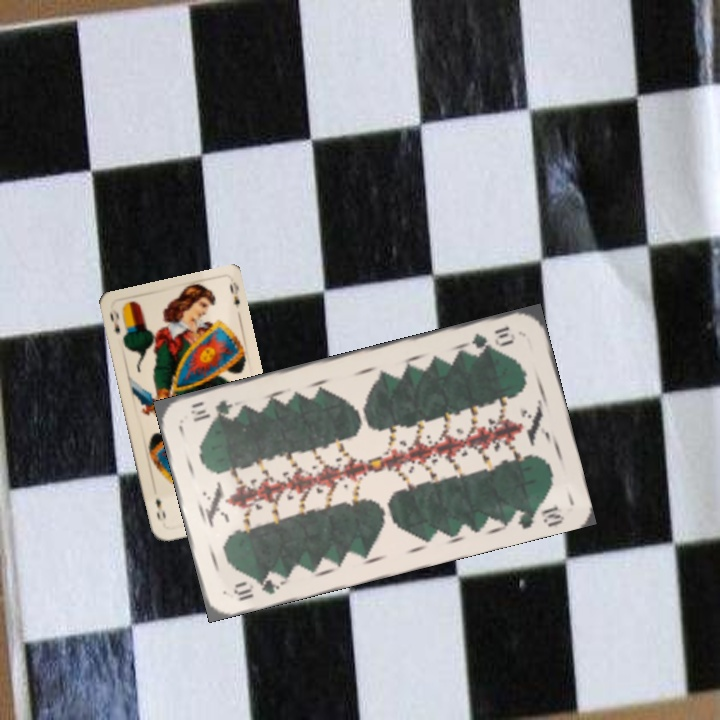EO: (106, 305, 123, 336)
G10: (229, 568, 286, 604), (467, 322, 519, 352)
